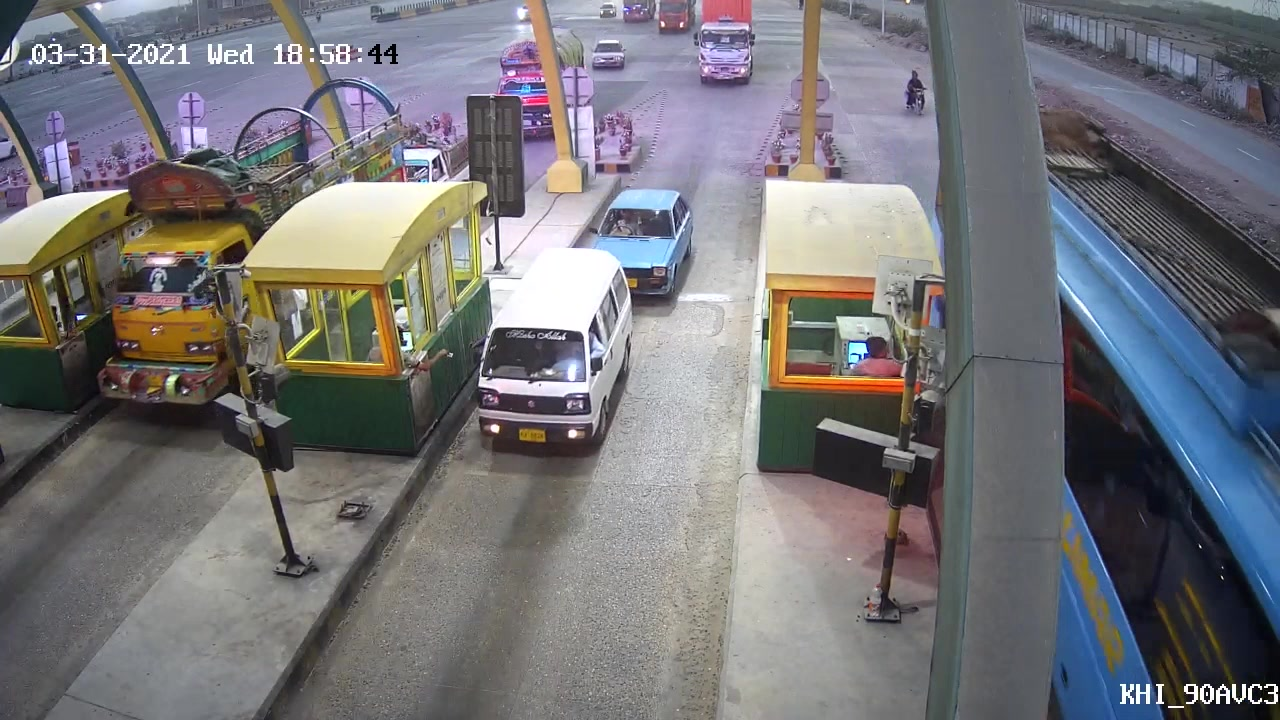F2: (465, 245, 643, 460)
